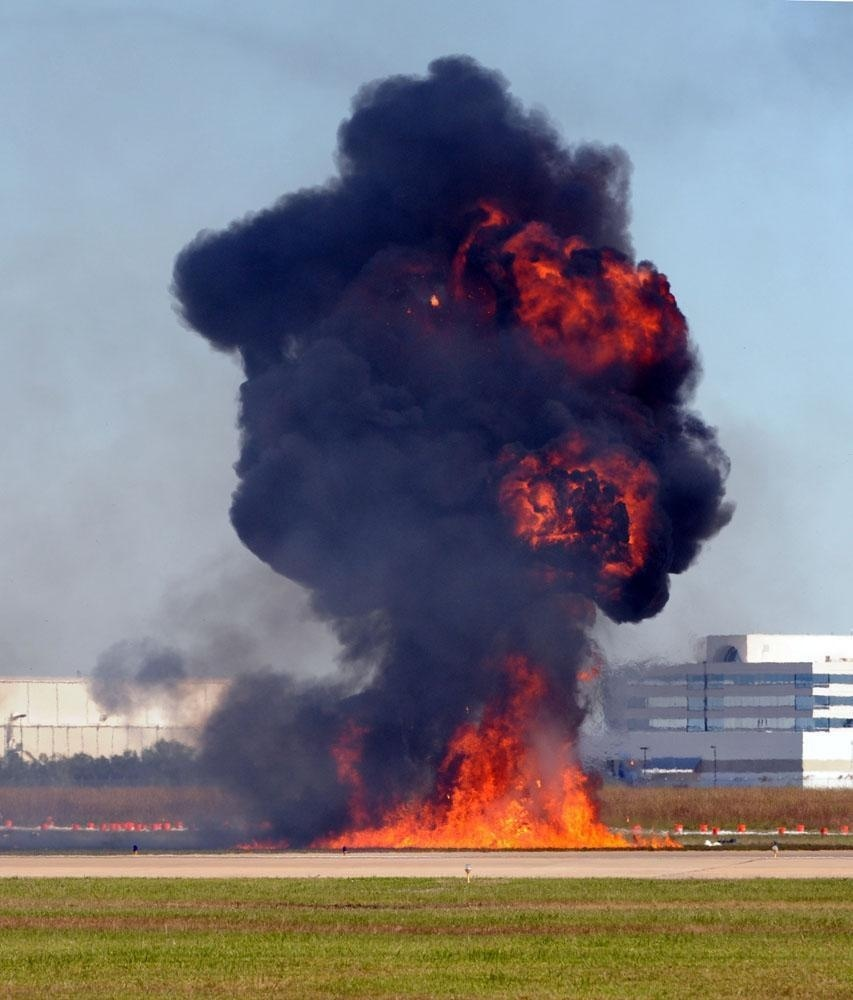fire: (318, 660, 650, 855), (476, 228, 689, 365), (507, 447, 646, 565)
